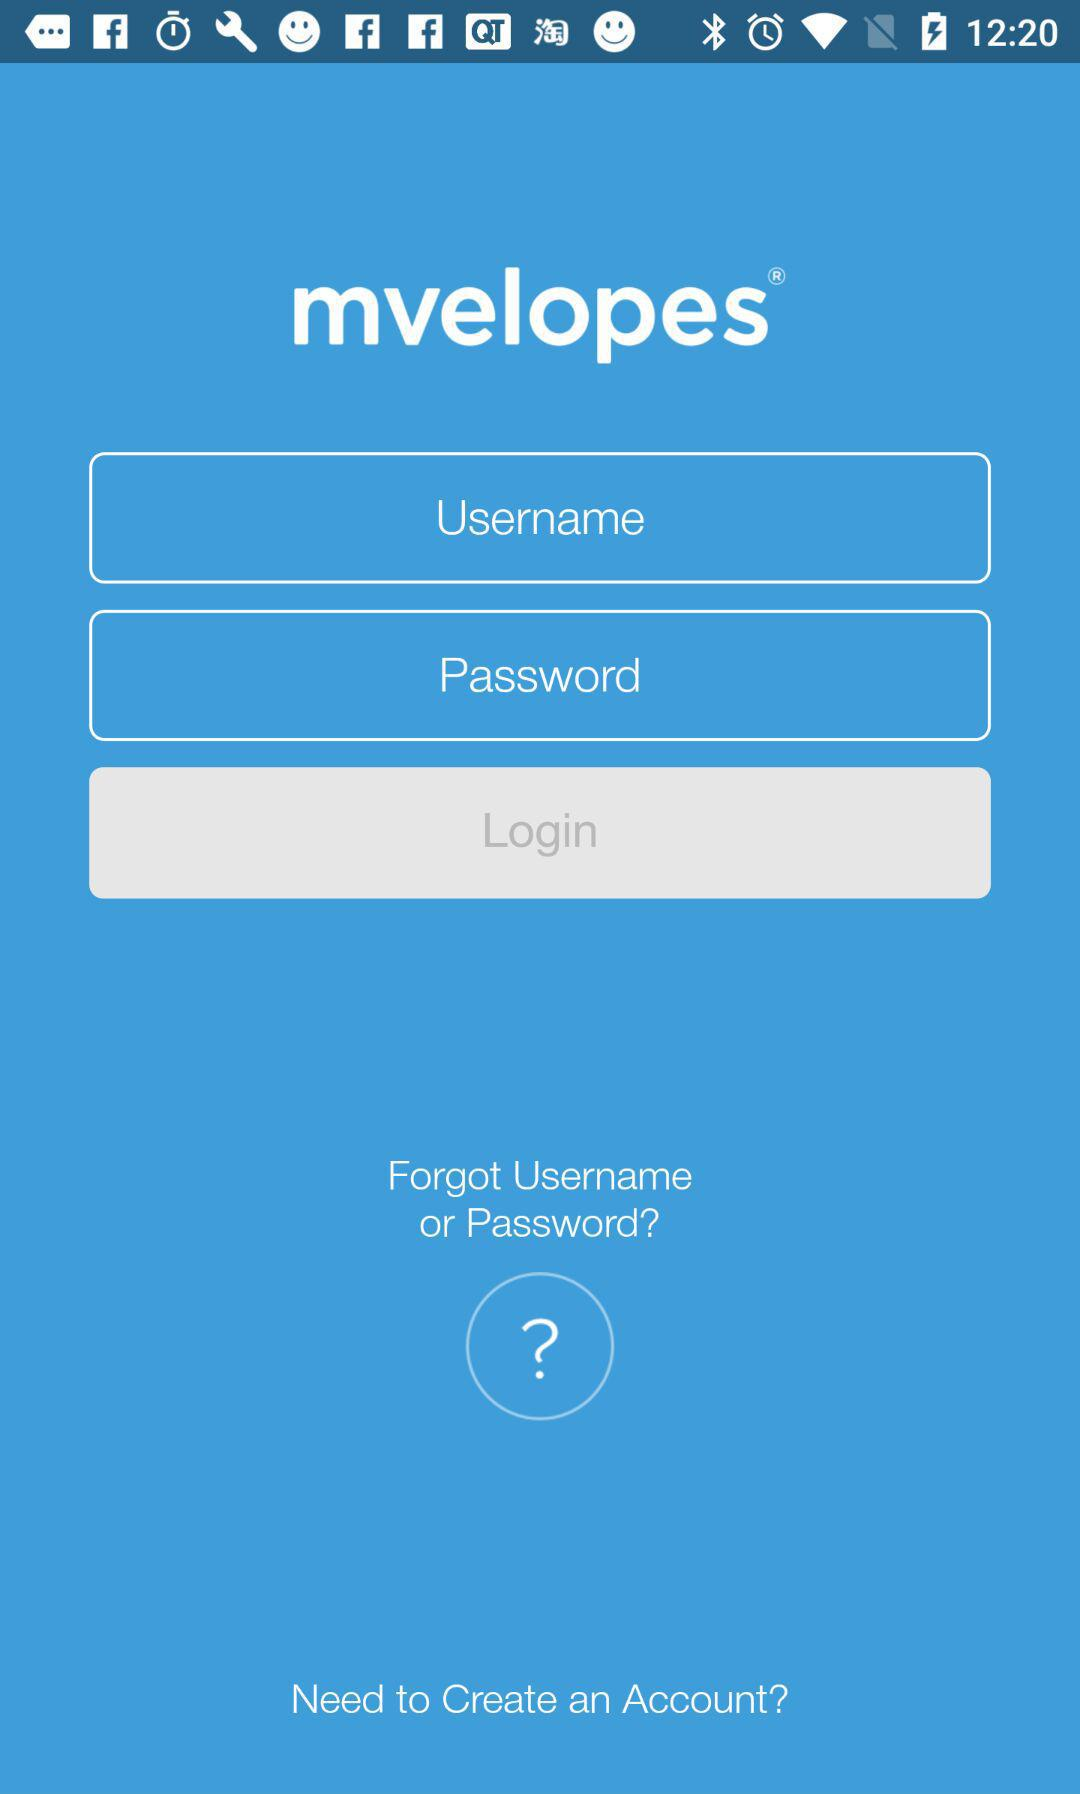EditText: (88, 452, 992, 586), (88, 610, 992, 743)
Icon: (465, 1271, 616, 1422)
Text: (293, 267, 787, 366), (389, 1158, 693, 1240), (293, 1683, 790, 1716), (438, 498, 644, 537), (442, 657, 641, 695)
TextButton: (88, 766, 992, 900)
UpperTaskBar: (1, 1, 1080, 64)
